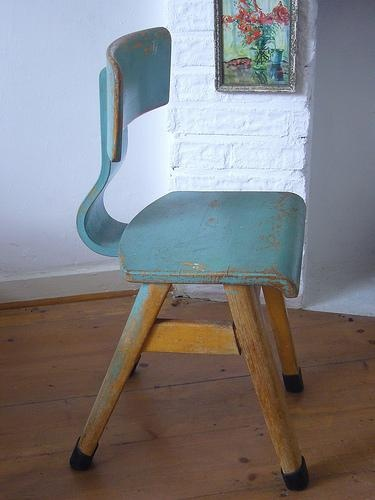obstacle: (70, 27, 308, 489)
